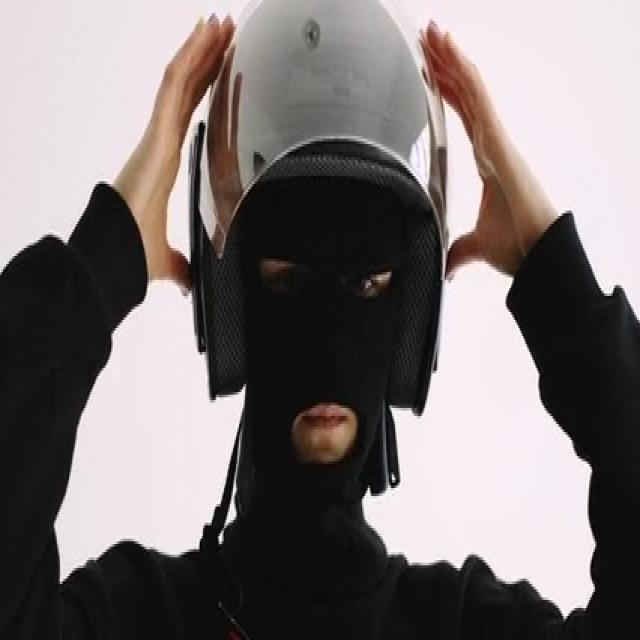Helmet_Wearer: (153, 0, 494, 635)
Person: (13, 2, 623, 637)
